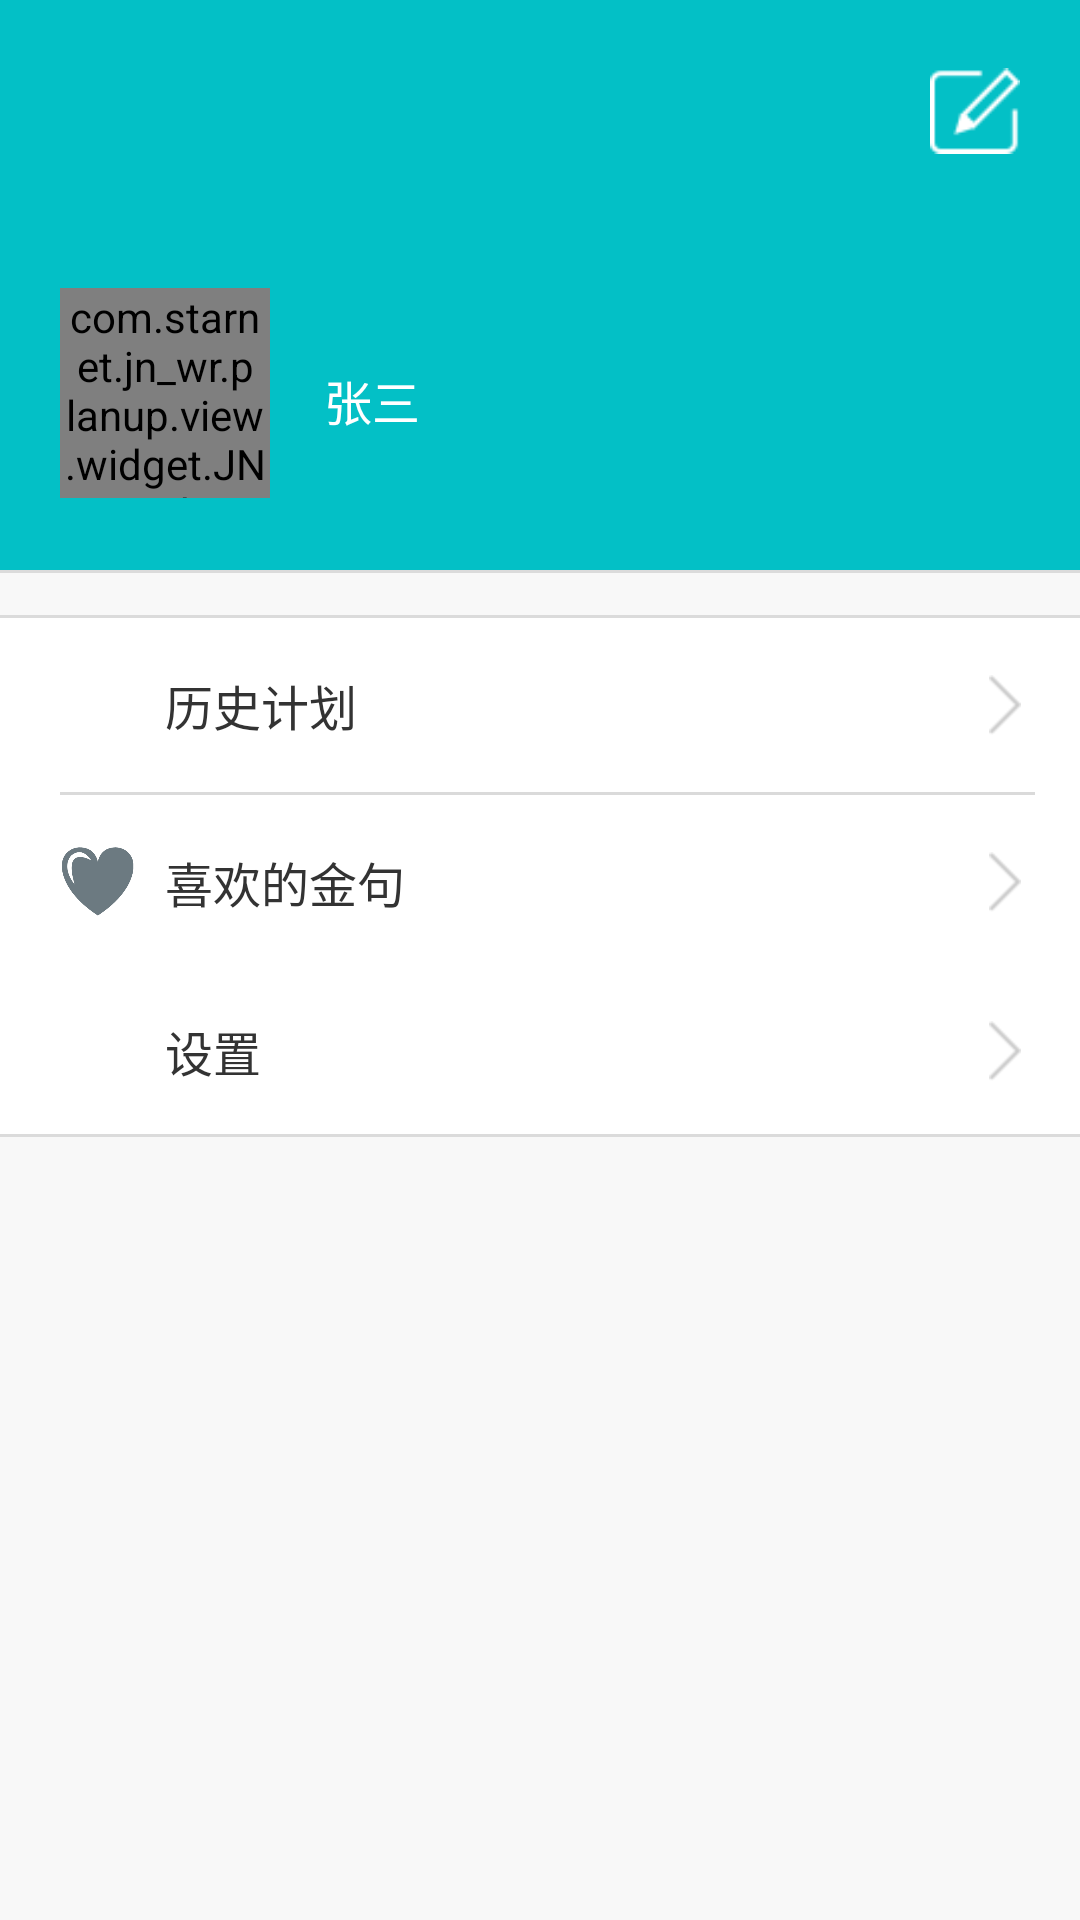

Screen size 1080x1920. Icon name, then its center in pixels as [x,y]:
edit: [975,111]
like: [98,881]
me arrow: [1005,705], [1005,882], [1005,1051]
